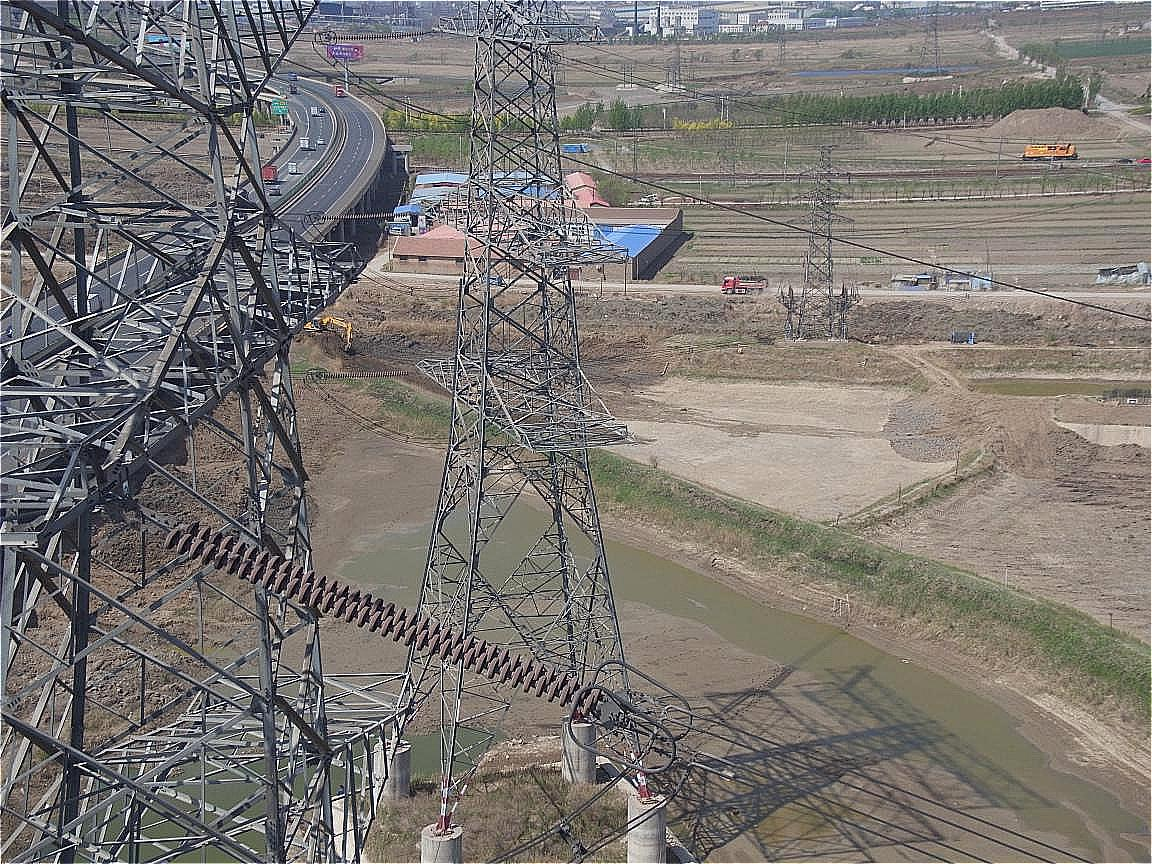insultor1: (150, 506, 596, 722)
